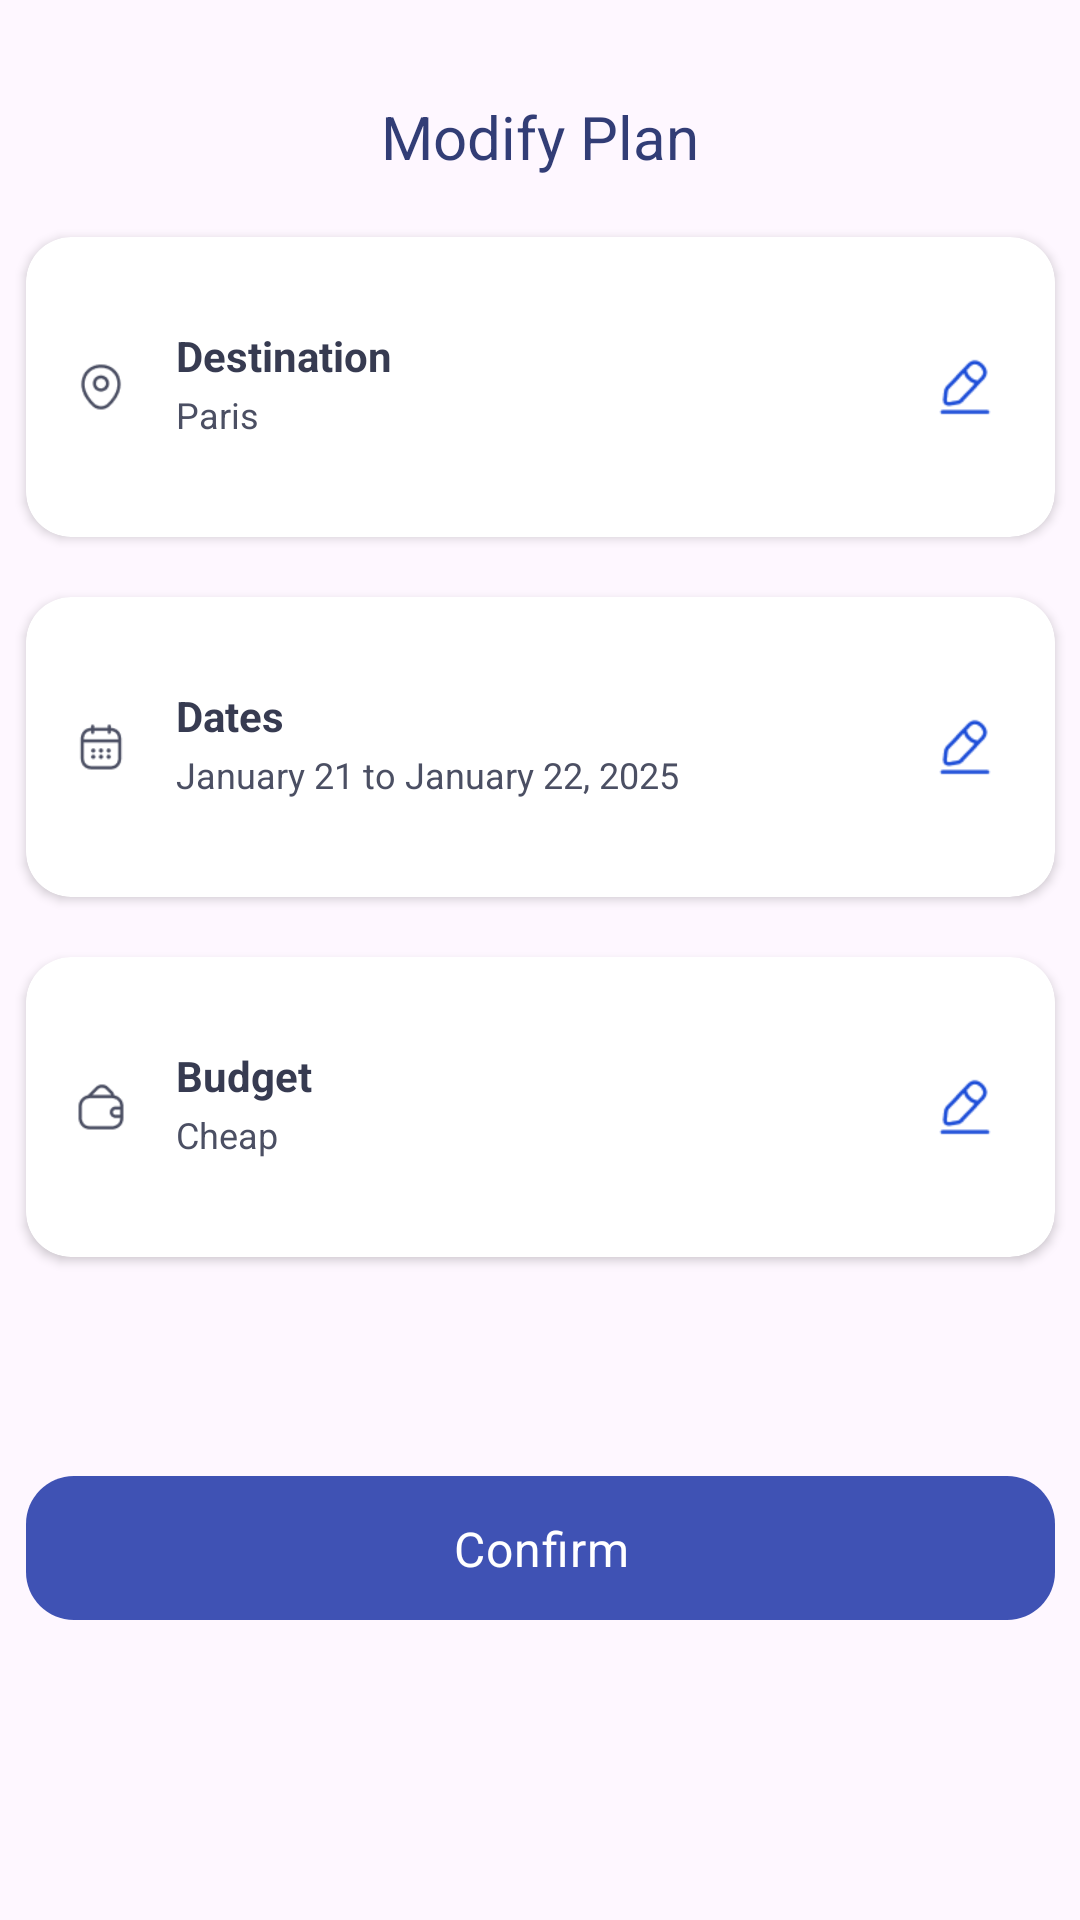

Icons on this 1080*1920 Android screen, each with the point to tap as (x=x, y=y):
edit: (x=965, y=387), (x=965, y=747), (x=965, y=1107)
